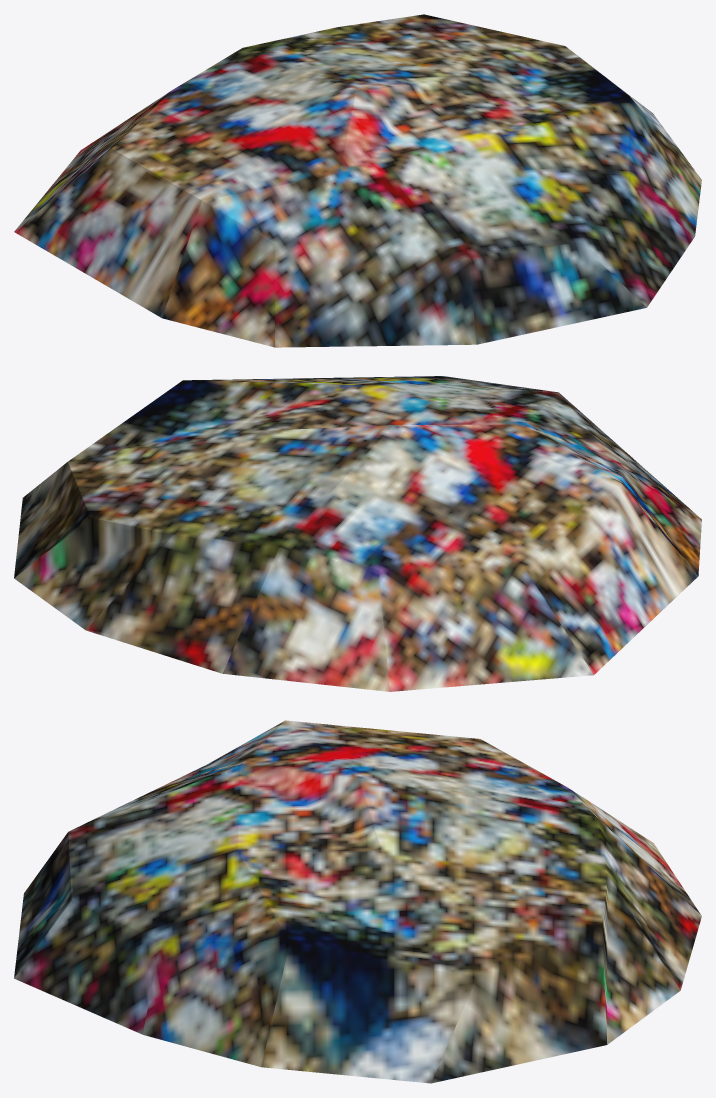
Rendered from Urban_Trashpile2_Model.fbx.
3 views of the same model, one above another, from view 1: azimuth 30°, elevation 25°; view 2: azimuth 150°, elevation 25°; view 3: azimuth 270°, elevation 25° (orthographic). The views are drawn at different scales.
Visible parts, largest first — view 1: Urban_Trashpile2_Mesh; view 2: Urban_Trashpile2_Mesh; view 3: Urban_Trashpile2_Mesh.
Boxes of the visible parts, box(x1,y1,x2,y2) form: Urban_Trashpile2_Mesh: box(14, 14, 701, 347); Urban_Trashpile2_Mesh: box(14, 376, 701, 691); Urban_Trashpile2_Mesh: box(14, 720, 701, 1083).
Bounding box in the file's own units: 0.8305 × 0.1701 × 0.7804.
